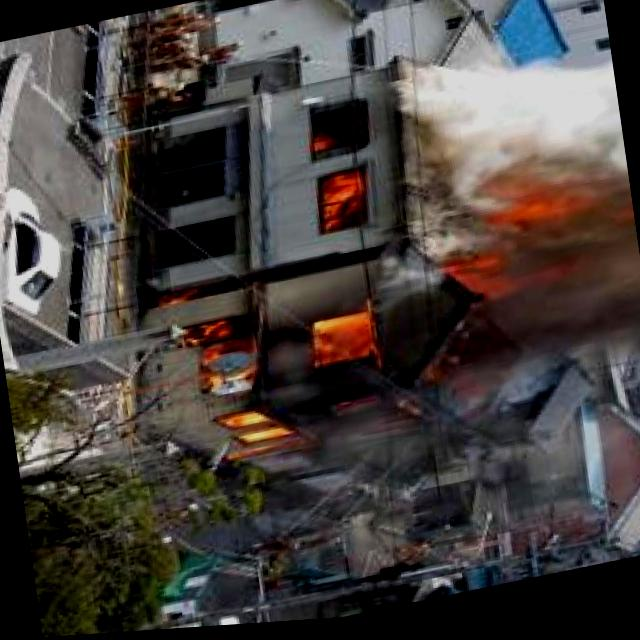Fire: (144, 242, 430, 475), (311, 172, 369, 236)
Smoke: (388, 21, 640, 414)
